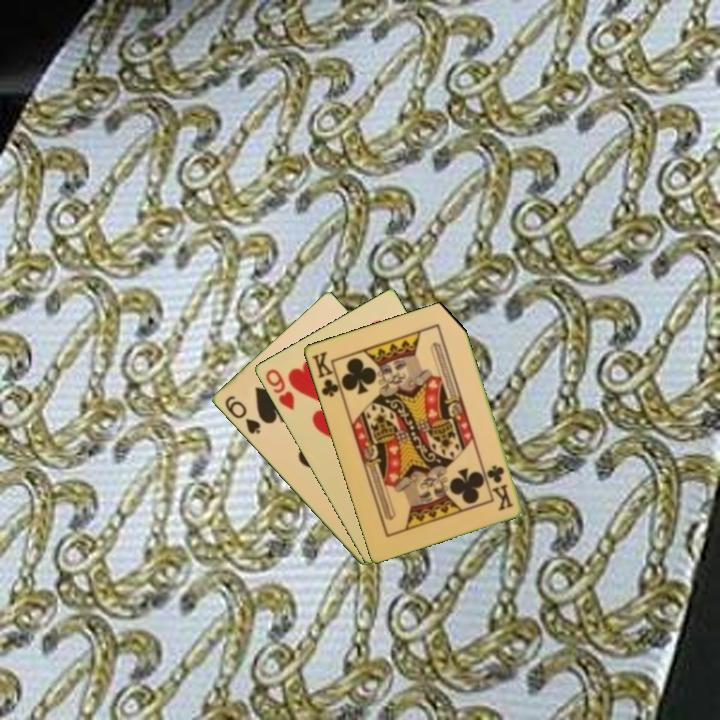6s: (221, 392, 263, 437)
9h: (262, 365, 297, 414)
Kc: (308, 348, 344, 400), (484, 461, 516, 513)
